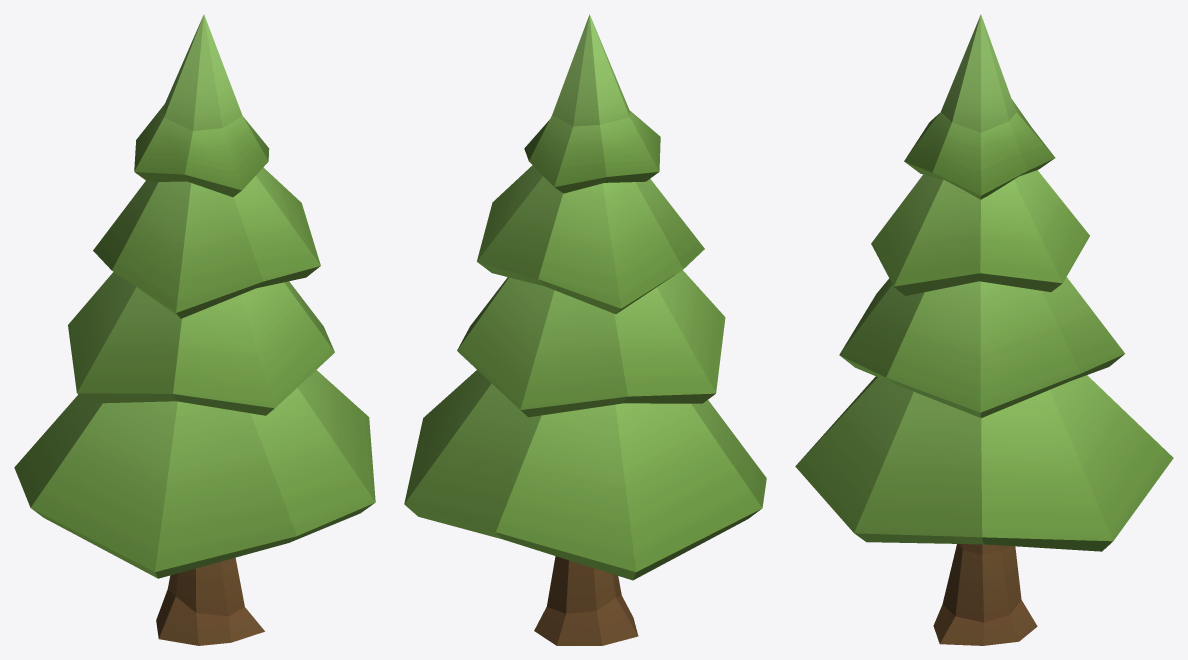
The model's file is pack01_foliage_06.fbx.
The picture shows the model from 3 angles, left to right: view 1: azimuth 30°, elevation 25°; view 2: azimuth 150°, elevation 25°; view 3: azimuth 270°, elevation 25°; orthographic projection.
Visible parts, largest first — view 1: Tree_Spruce_small_01; view 2: Tree_Spruce_small_01; view 3: Tree_Spruce_small_01.
Boxes of the visible parts, box(x1,y1,x2,y2) form: Tree_Spruce_small_01: box(14, 14, 375, 645); Tree_Spruce_small_01: box(404, 14, 766, 645); Tree_Spruce_small_01: box(795, 14, 1173, 645).
Size of the model in its own units: 1058 by 1826 by 1026.
Materials: 1 (1 with a texture image).
